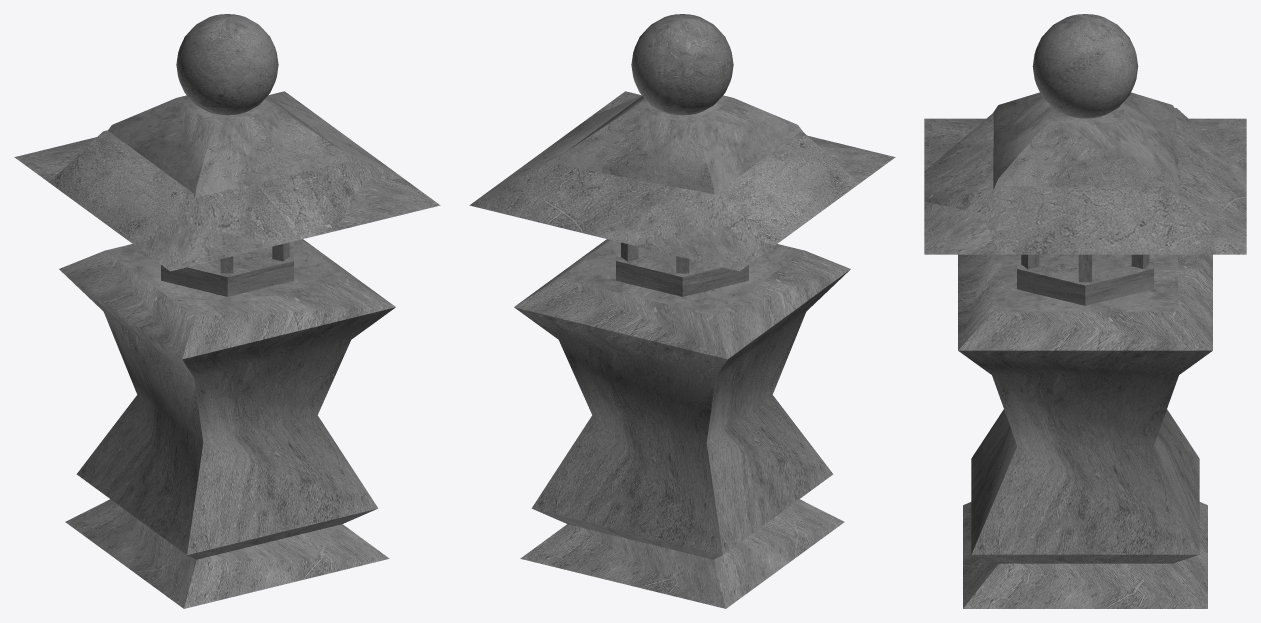
Rendered from japanese_stone_lantern.glb.
3 views of the same model, side by side, from view 1: azimuth 30°, elevation 25°; view 2: azimuth 150°, elevation 25°; view 3: azimuth 270°, elevation 25° (orthographic). The views are drawn at different scales.
Visible parts, largest first — view 1: Object_2; view 2: Object_2; view 3: Object_2.
Boxes of the visible parts, left/top/right/bottom form: Object_2: left=14, top=14, right=440, bottom=608; Object_2: left=469, top=14, right=895, bottom=608; Object_2: left=924, top=14, right=1246, bottom=608.
Bounding box in the file's own units: 200 × 369 × 200.
Materials: 1 (1 with a texture image).
